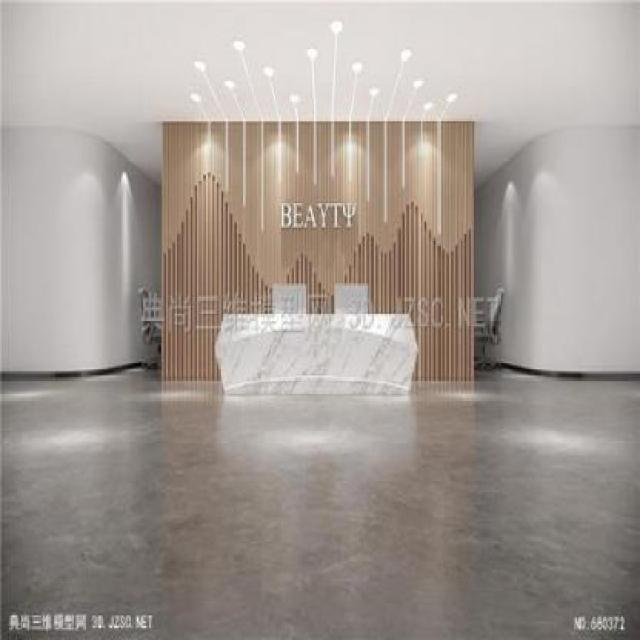frontdesk: (210, 303, 422, 409)
